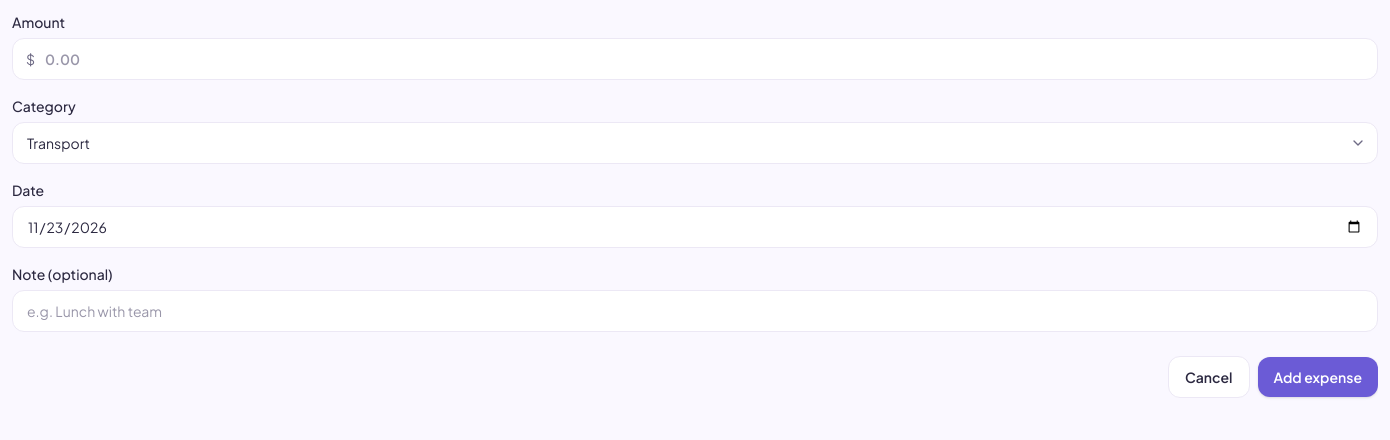
Test: ExpenseForm › shows an error and does not submit an invalid amount
Type "abc" into the field labelled "Amount" at x=695, y=59, box x1=12 y1=38 x2=1378 y2=80
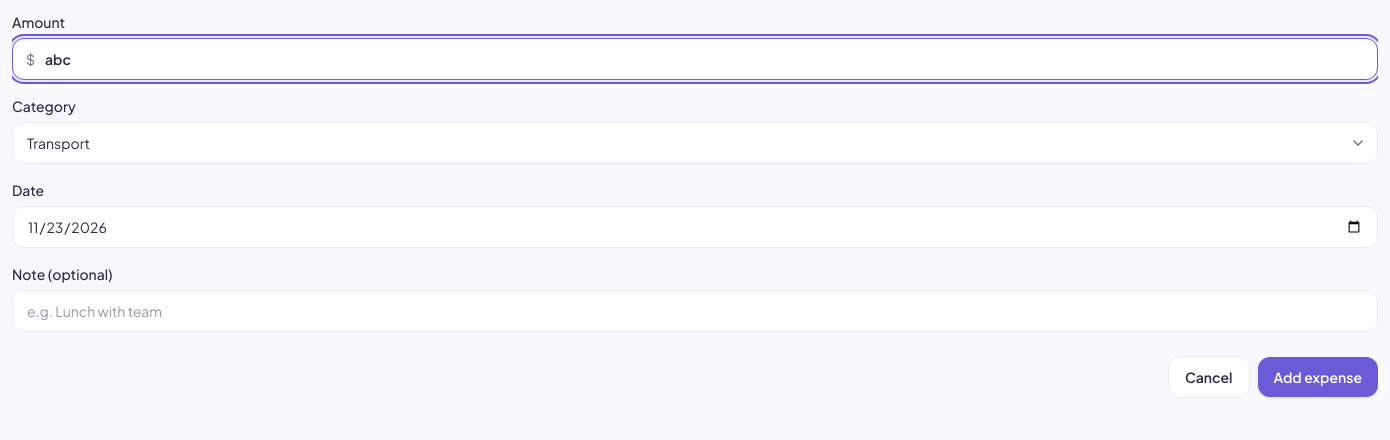
Click the button "Add expense" at x=1318, y=377, box x1=1258 y1=357 x2=1378 y2=397
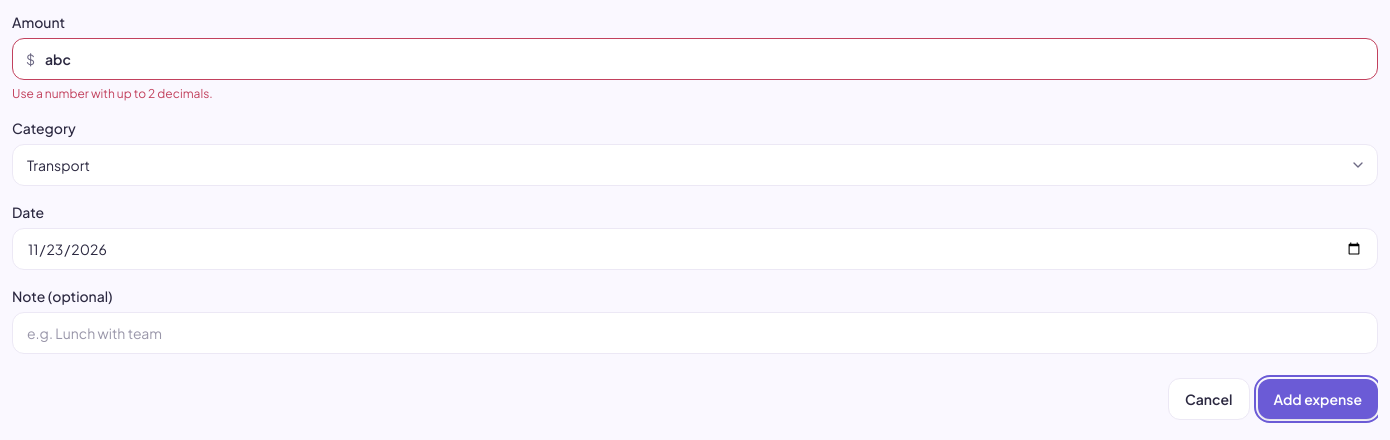
Result: the text "Use a number with up to 2 decimals." is shown at x1=12 y1=86 x2=213 y2=101
